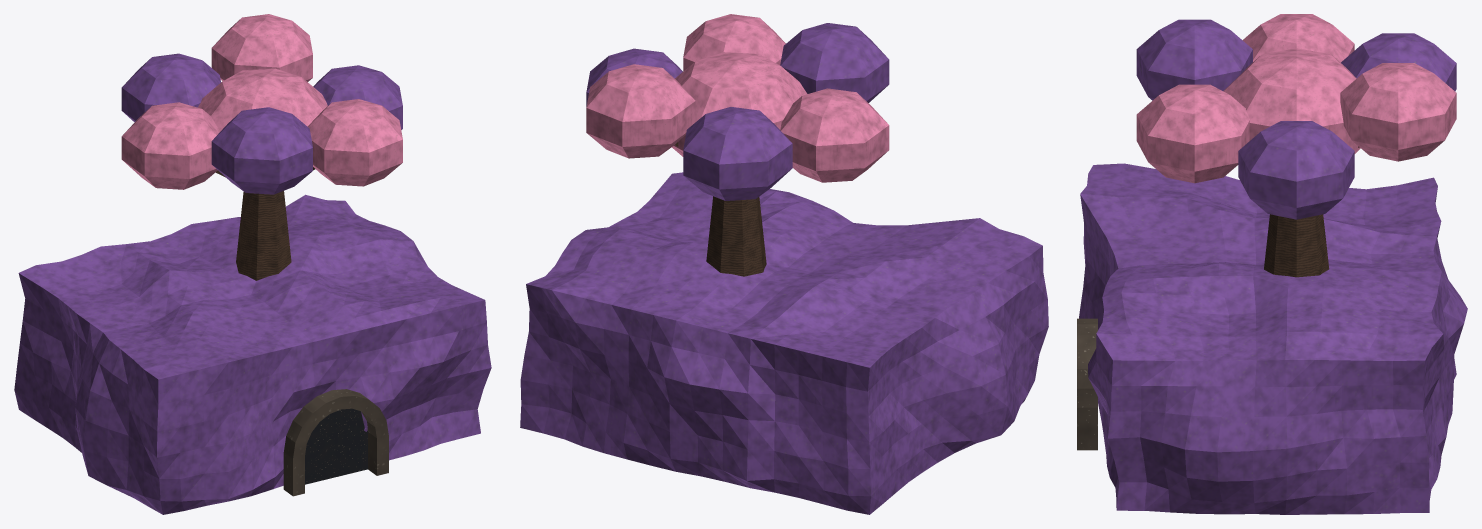
The model's file is Ride_ArcanaRide.fbx.
3 views of the same model, side by side, from view 1: azimuth 30°, elevation 25°; view 2: azimuth 150°, elevation 25°; view 3: azimuth 270°, elevation 25° (orthographic). The views are drawn at different scales.
Parts seen in each view (by area): view 1: RockMound, ArcanaRide_Tree, CaveMouth; view 2: RockMound, ArcanaRide_Tree; view 3: RockMound, ArcanaRide_Tree, CaveMouth.
Boxes of the visible parts, x1=… form: RockMound: x1=14, y1=194, x2=491, y2=514; ArcanaRide_Tree: x1=121, y1=14, x2=402, y2=280; CaveMouth: x1=283, y1=389, x2=388, y2=496; RockMound: x1=520, y1=172, x2=1048, y2=514; ArcanaRide_Tree: x1=586, y1=14, x2=889, y2=276; RockMound: x1=1079, y1=163, x2=1467, y2=514; ArcanaRide_Tree: x1=1136, y1=14, x2=1456, y2=277; CaveMouth: x1=1077, y1=318, x2=1097, y2=450.
Bounding box in the file's own units: 19.28 × 16.5 × 14.96.
